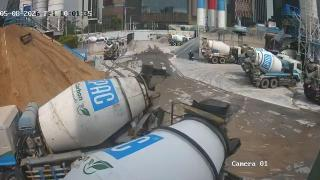cement_mixer_truck: (0, 68, 174, 180), (55, 103, 245, 180), (242, 50, 302, 87), (199, 41, 244, 64), (301, 61, 320, 104), (104, 41, 119, 60), (170, 36, 191, 46), (95, 33, 106, 45)
